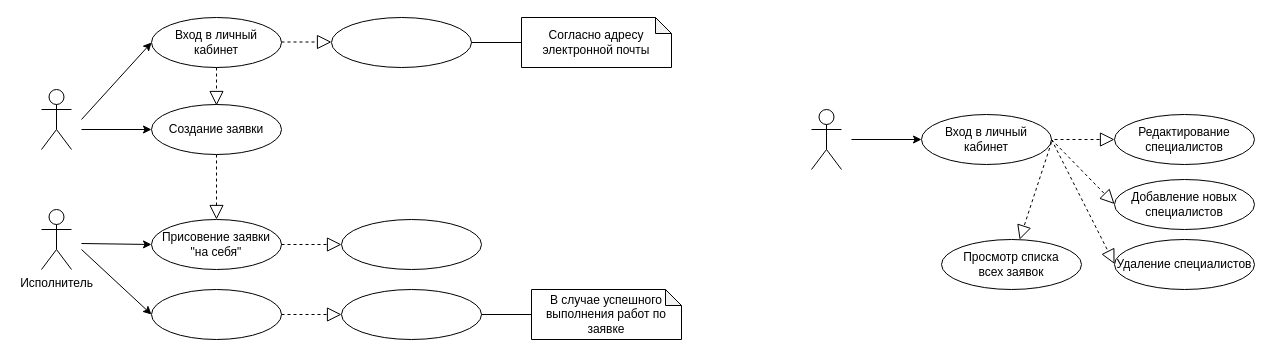
Some shapes in this 1272 by 357 pixel diagram are drawn without their labels. Here are the shapes that lost their labels. From the top down, the centre of each, then its label:
(x=401, y=42): Просмотр всех своих звявок
(x=56, y=119): Пользователь
(x=826, y=139): Администратор портала
(x=411, y=244): Изменение статуса на "в работе"
(x=216, y=314): Исправление неисправности
(x=411, y=314): Изменение статуса на "выполнено"
